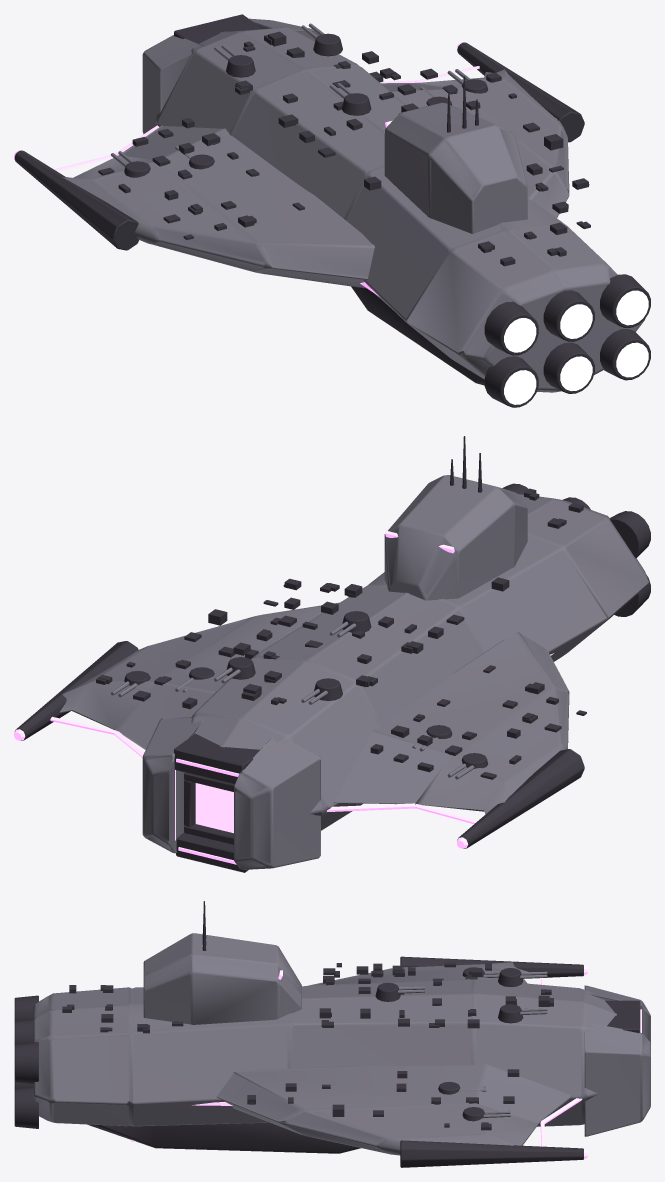
Rendered from flagship.glb.
3 renders of one model, top to bottom at view 1: azimuth 30°, elevation 25°; view 2: azimuth 150°, elevation 25°; view 3: azimuth 270°, elevation 25°, orthographic. The views are drawn at different scales.
Visible parts, largest first — view 1: Flagship; view 2: Flagship, WeakPoint; view 3: Flagship.
Boxes of the visible parts, x1=… form: Flagship: x1=14, y1=14, x2=650, y2=407; Flagship: x1=14, y1=436, x2=650, y2=872; WeakPoint: x1=195, y1=783, x2=233, y2=833; Flagship: x1=14, y1=901, x2=650, y2=1167.
Bounding box in the file's own units: 75.67 × 45.41 × 104.
